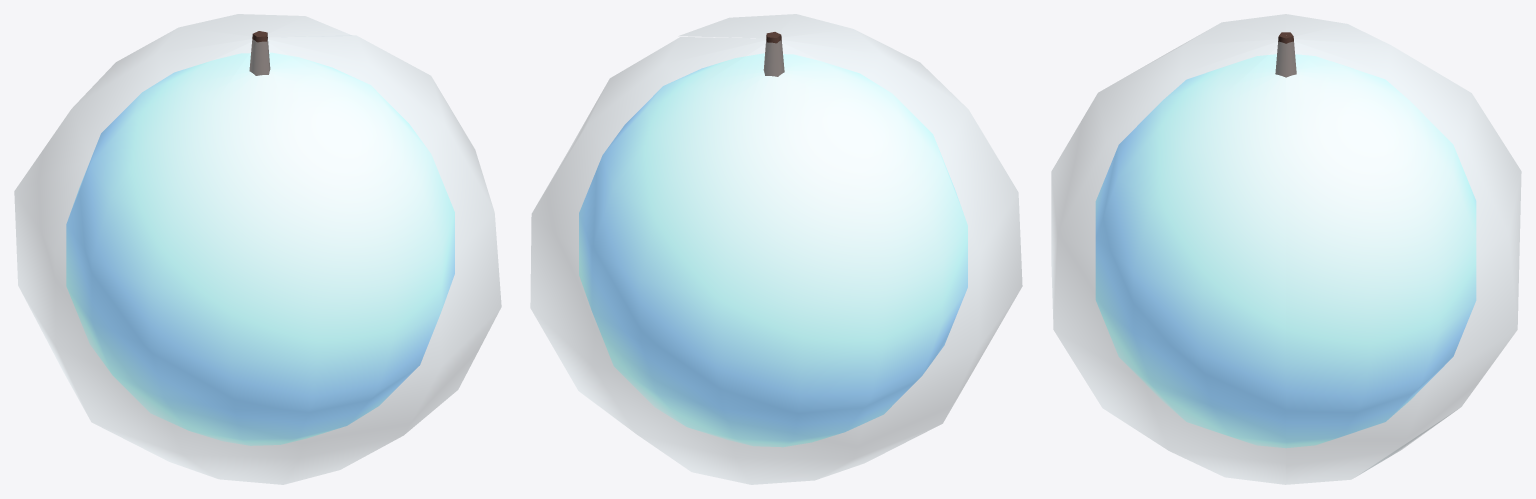
The model's file is fruit-coconut-frozen.gltf.
The picture shows the model from 3 angles, left to right: view 1: azimuth 30°, elevation 25°; view 2: azimuth 150°, elevation 25°; view 3: azimuth 270°, elevation 25°; orthographic projection.
Size of the model in its own units: 0.6872 by 0.6664 by 0.664.
